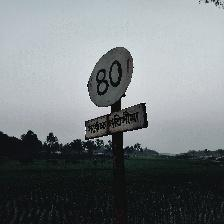Speed-limit: (84, 46, 147, 140)
